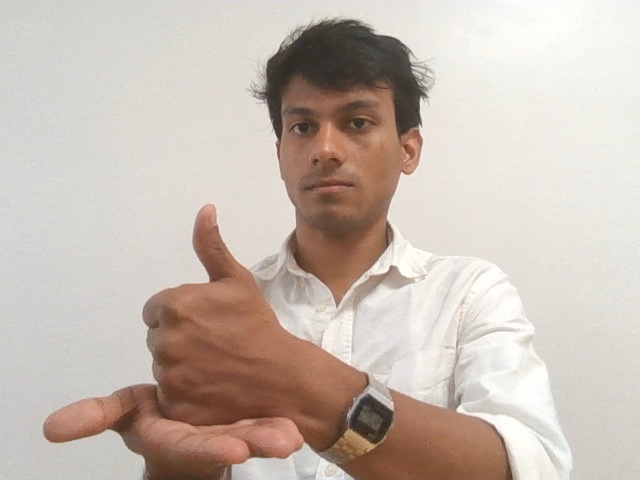Help: (38, 202, 311, 471)
